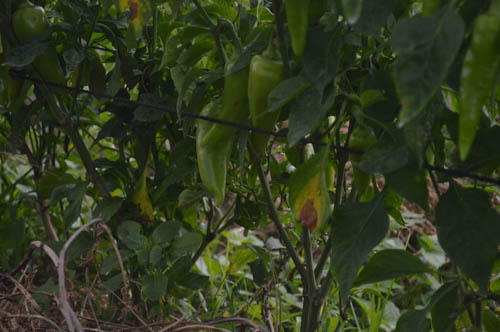ChiliPepper: (459, 16, 496, 164), (203, 62, 250, 149), (17, 12, 64, 85), (249, 58, 283, 152), (196, 104, 227, 204)
